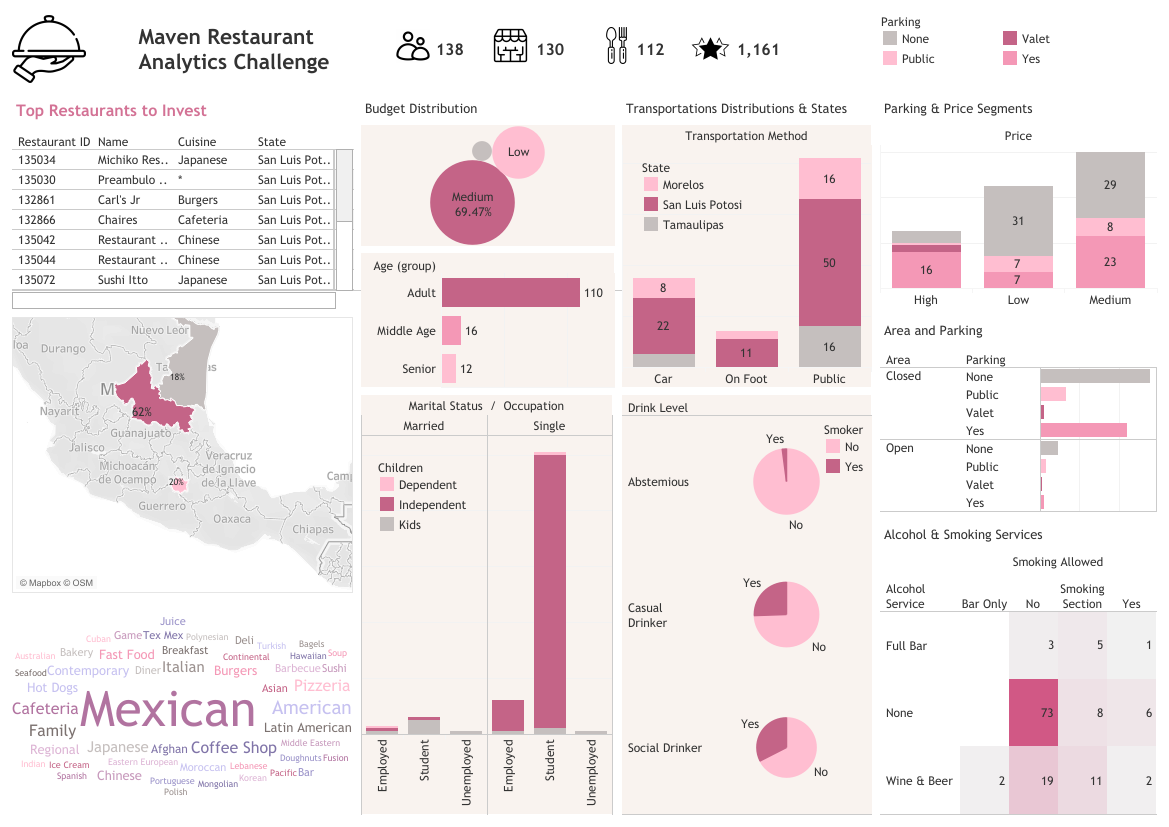

The page's visual inventory and layout, read from the dashboard file:
{"tool":"tableau","page":{"name":"Dashboard 1","canvas":[1169,827],"ordinal":0},"visuals":[{"type":"image","param":"Image/429305229f4b907a56b8a24a448830ed.png","box":[8,8,123.6,82]},{"type":"text","box":[131.6,8,225.7,82]},{"type":"text","box":[357.3,8,518.7,82]},{"type":"legend","title":"Area per Price segment","param":"[federated.15dq4t601alkb31b74e7o182815n].[none:Parking:nk]","box":[876,8,285,82]},{"type":"image","param":"Image/restaurant.png","box":[492,27,39,37]},{"type":"image","param":"Image/104987.png","box":[598,27,44,37]},{"type":"image","param":"Image/free-rating-star-icon-2793-thumb.png","box":[689,27,44,43]},{"type":"image","param":"Image/3661002.png","box":[396,29,45,34]},{"type":"worksheet","title":"Top Restaurants to Invest (Used)","mark":"Automatic","rows":["Restaurant_ID","Name","Cuisine","State","Alcohol_Service","Smoking_Allowed","Price","Franchise","Area","Parking"],"box":[8,90,349.3,223]},{"type":"worksheet","title":"Budget Distribution","mark":"Circle","box":[357.3,90,260.4,159]},{"type":"worksheet","title":"Distribution of Transportation Methods","mark":"Bar","rows":["consumers.csv_99BD2F277C96461BAB729F67BFEEE369"],"cols":["Transportation_Method"],"box":[617.7,90,258.3,301]},{"type":"worksheet","title":"Area per Price segment","mark":"Automatic","rows":["restaurants.csv_3ED9E383EAFF41FE9BC839B72CD7BEFD"],"cols":["Price"],"box":[876,90,285,222]},{"type":"legend","title":"Distribution of Transportation Methods","param":"[federated.1pcp9l71agvybu1co28oe1snfldh].[none:State:nk]","box":[641,158,123,76]},{"type":"worksheet","title":"Age Group Distributions","mark":"Automatic","cols":["consumers.csv_99BD2F277C96461BAB729F67BFEEE369"],"box":[357.3,249,260.4,142]},{"type":"worksheet","title":"Area and Parking","mark":"Automatic","rows":["Area","Parking"],"cols":["restaurants.csv_3ED9E383EAFF41FE9BC839B72CD7BEFD"],"box":[876,312,285,204]},{"type":"worksheet","title":"Consumers Distribution from each State","mark":"Multipolygon","rows":["Latitude"],"cols":["Longitude"],"box":[8,313,349.3,284]},{"type":"worksheet","title":"Married, Occupation","mark":"Automatic","rows":["consumers.csv_99BD2F277C96461BAB729F67BFEEE369"],"cols":["Marital_Status","Occupation"],"box":[357.3,391,260.4,428]},{"type":"worksheet","title":"Drink Vs. Smoke","mark":"Pie","rows":["Drink_Level"],"box":[617.7,391,258.3,428]},{"type":"legend","title":"Drink Vs. Smoke","param":"[federated.1pcp9l71agvybu1co28oe1snfldh].[none:Smoker:nk]","box":[823,420,71,56]},{"type":"legend","title":"Married, Occupation","param":"[federated.1pcp9l71agvybu1co28oe1snfldh].[none:Children:nk]","box":[377,458,112,86]},{"type":"worksheet","title":"Price Segment and No.of Restaurant based on Alcohol Service","mark":"Square","rows":["Alcohol_Service"],"cols":["Smoking_Allowed"],"box":[876,516,285,303]},{"type":"worksheet","title":"WordCloud Consumer Preferences","mark":"Text","box":[8,597,349.3,222]}]}

Visuals, with their boxes in screenshot pixels (x1, y1, x2, y2), scaled from the page's 1169x827 canvas onto the 1169x827 screenshot:
image: {"x1": 8, "y1": 8, "x2": 132, "y2": 90}
text: {"x1": 132, "y1": 8, "x2": 357, "y2": 90}
text: {"x1": 357, "y1": 8, "x2": 876, "y2": 90}
"Area per Price segment" legend: {"x1": 876, "y1": 8, "x2": 1161, "y2": 90}
image: {"x1": 492, "y1": 27, "x2": 531, "y2": 64}
image: {"x1": 598, "y1": 27, "x2": 642, "y2": 64}
image: {"x1": 689, "y1": 27, "x2": 733, "y2": 70}
image: {"x1": 396, "y1": 29, "x2": 441, "y2": 63}
"Top Restaurants to Invest (Used)" worksheet: {"x1": 8, "y1": 90, "x2": 357, "y2": 313}
"Budget Distribution" worksheet (Circle marks): {"x1": 357, "y1": 90, "x2": 618, "y2": 249}
"Distribution of Transportation Methods" worksheet (Bar marks): {"x1": 618, "y1": 90, "x2": 876, "y2": 391}
"Area per Price segment" worksheet: {"x1": 876, "y1": 90, "x2": 1161, "y2": 312}
"Distribution of Transportation Methods" legend: {"x1": 641, "y1": 158, "x2": 764, "y2": 234}
"Age Group Distributions" worksheet: {"x1": 357, "y1": 249, "x2": 618, "y2": 391}
"Area and Parking" worksheet: {"x1": 876, "y1": 312, "x2": 1161, "y2": 516}
"Consumers Distribution from each State" worksheet (Multipolygon marks): {"x1": 8, "y1": 313, "x2": 357, "y2": 597}
"Married, Occupation" worksheet: {"x1": 357, "y1": 391, "x2": 618, "y2": 819}
"Drink Vs. Smoke" worksheet (Pie marks): {"x1": 618, "y1": 391, "x2": 876, "y2": 819}
"Drink Vs. Smoke" legend: {"x1": 823, "y1": 420, "x2": 894, "y2": 476}
"Married, Occupation" legend: {"x1": 377, "y1": 458, "x2": 489, "y2": 544}
"Price Segment and No.of Restaurant based on Alcohol Service" worksheet (Square marks): {"x1": 876, "y1": 516, "x2": 1161, "y2": 819}
"WordCloud Consumer Preferences" worksheet (Text marks): {"x1": 8, "y1": 597, "x2": 357, "y2": 819}
